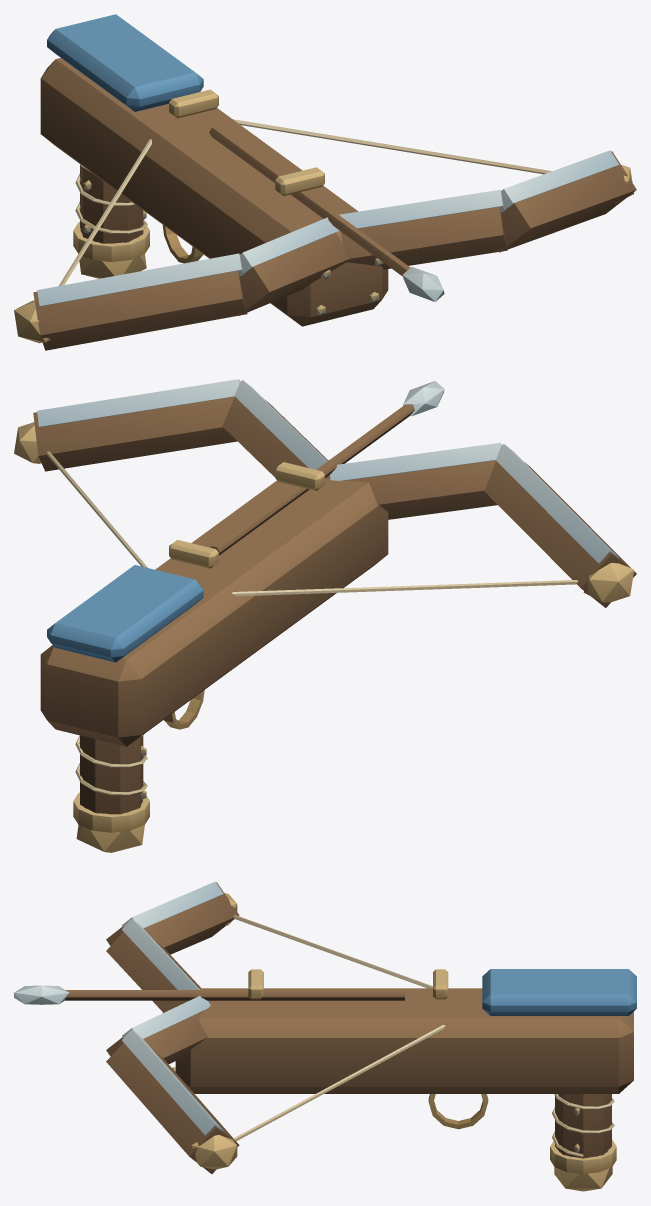
File: ballesta_martin_pescador.glb
3 renders of one model, top to bottom at view 1: azimuth 30°, elevation 25°; view 2: azimuth 150°, elevation 25°; view 3: azimuth 270°, elevation 25°, orthographic. The views are drawn at different scales.
Parts seen in each view (by area): view 1: ballesta_martin_pescador_finished; view 2: ballesta_martin_pescador_finished; view 3: ballesta_martin_pescador_finished.
Part boxes in pixels (left/top/right/bottom): ballesta_martin_pescador_finished: left=14, top=14, right=636, bottom=350; ballesta_martin_pescador_finished: left=14, top=379, right=636, bottom=852; ballesta_martin_pescador_finished: left=14, top=881, right=636, bottom=1191.
Size of the model in its own units: 1.03 by 0.4048 by 1.05.
Materials: 2 (2 with a texture image).
